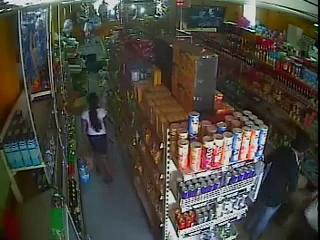Normal: (80, 93, 114, 184)
